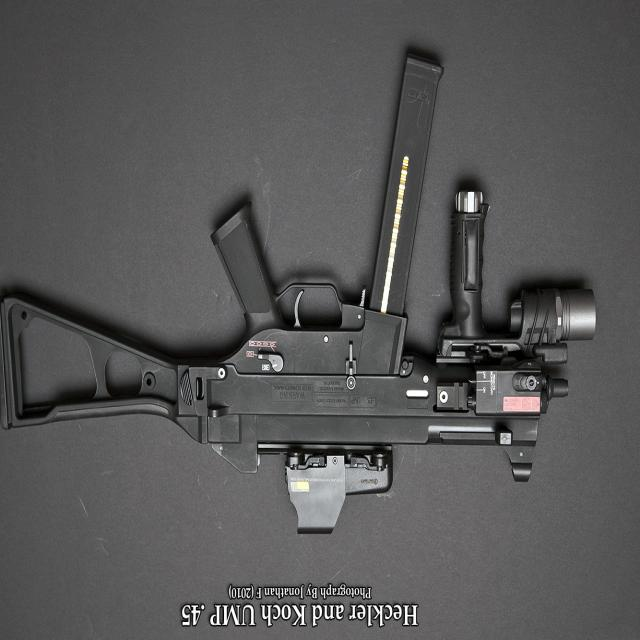Gun: (0, 40, 596, 526)
